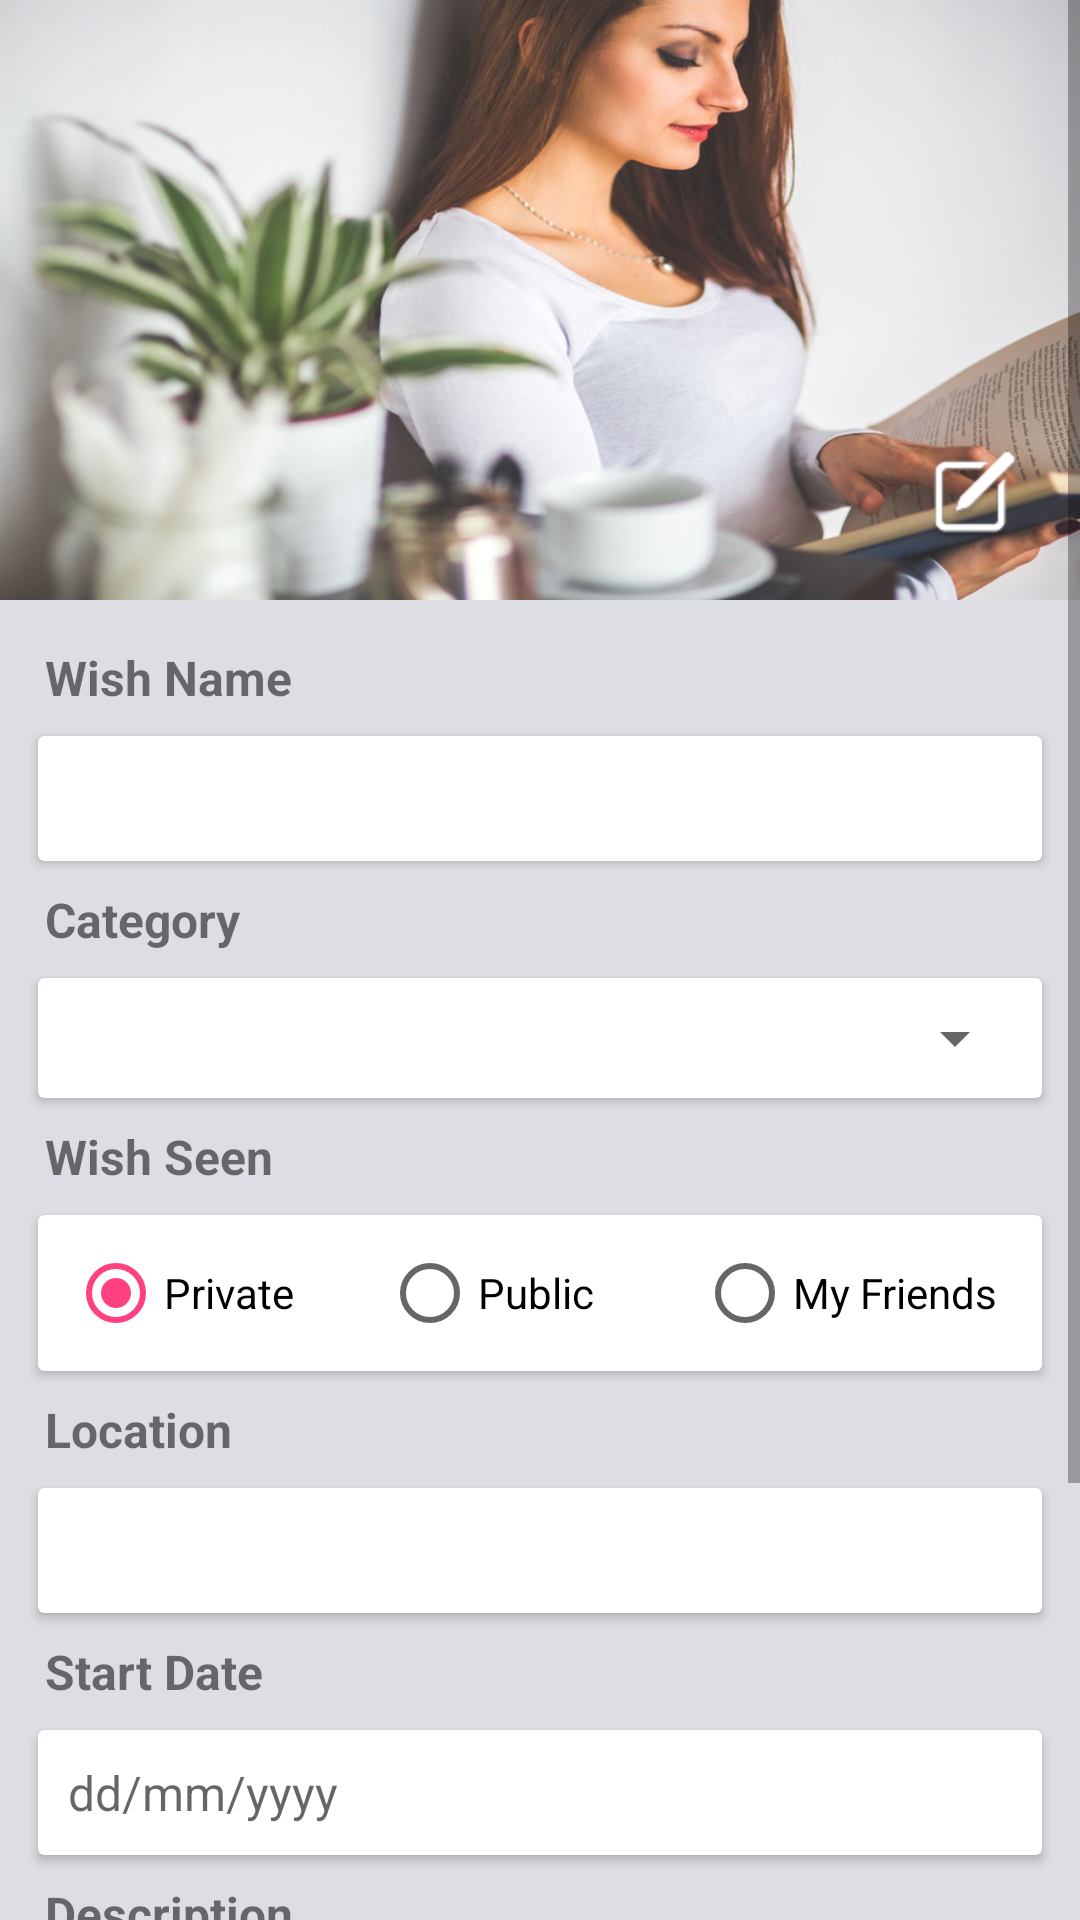

Screen size 1080 × 1920. Icon name, then its center in pixels as (x=x, y=y):
edit: (x=975, y=495)
